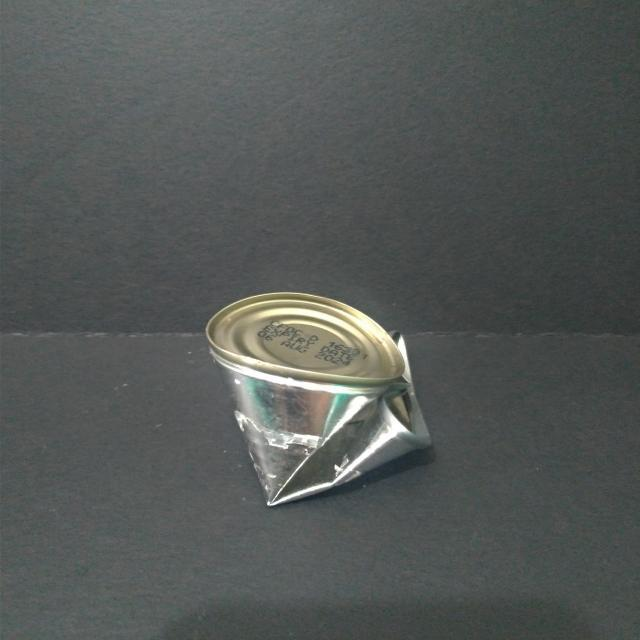metal-can: (202, 290, 434, 510)
